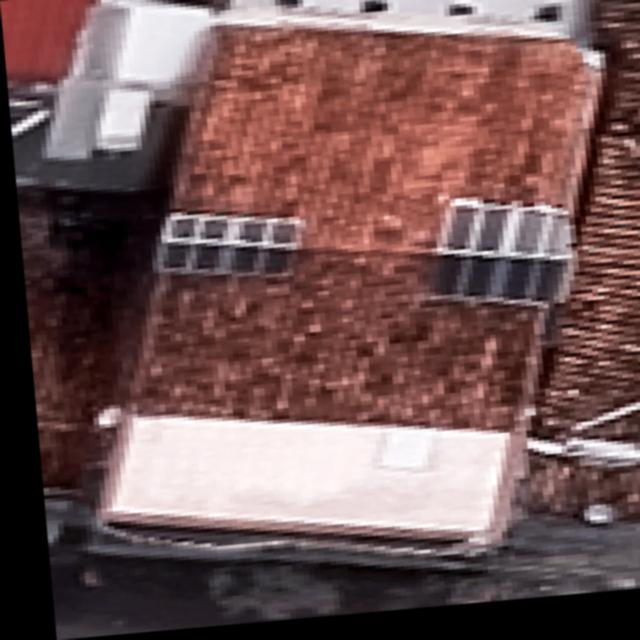Batiment: (124, 36, 594, 435), (57, 413, 513, 572), (518, 0, 640, 476), (506, 462, 640, 537)
